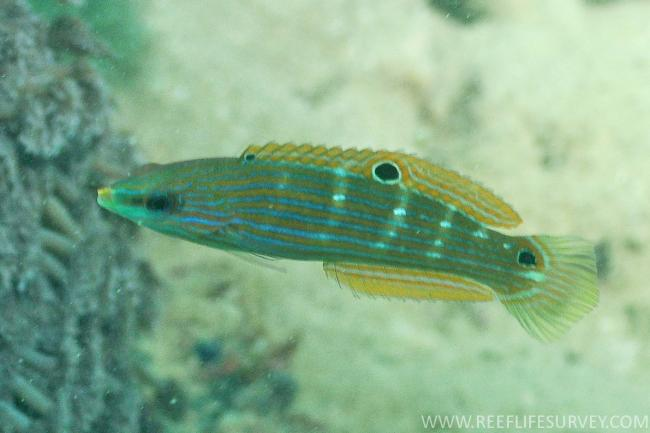fish: (97, 140, 601, 344)
